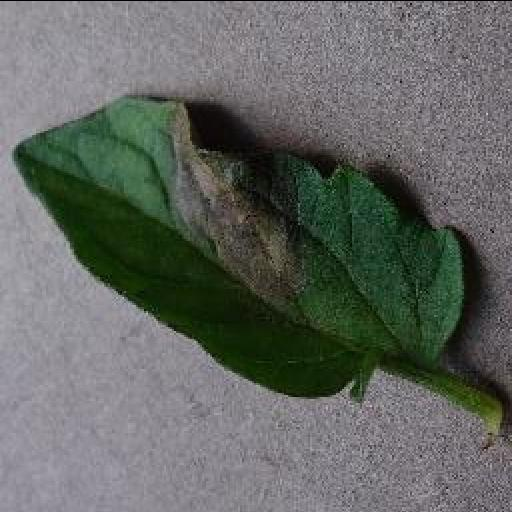disease_tomato: (8, 96, 470, 398)
